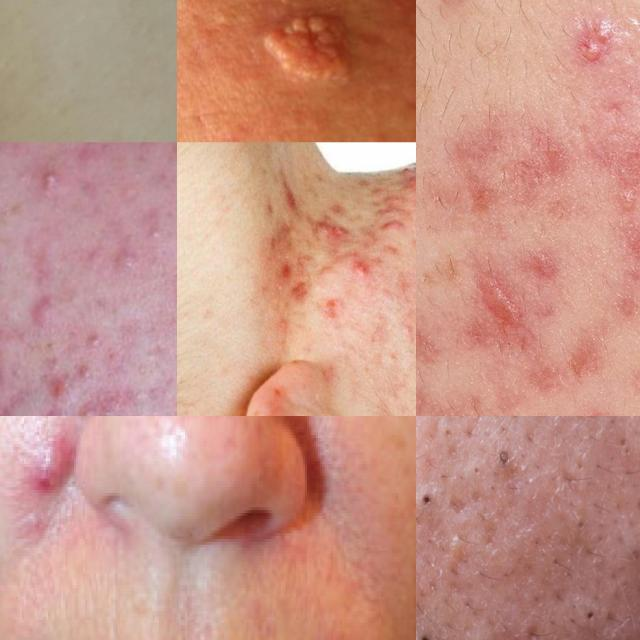acne_scars: (458, 255, 532, 358), (426, 0, 497, 36), (314, 213, 356, 242)
comedone: (137, 202, 177, 256), (76, 316, 117, 359), (383, 181, 414, 212), (73, 390, 104, 416), (495, 442, 513, 468), (420, 490, 435, 518), (416, 624, 437, 640)
papule: (22, 288, 63, 331)
pustule: (26, 149, 73, 203), (349, 253, 376, 279)
syringoma: (255, 1, 367, 101)
